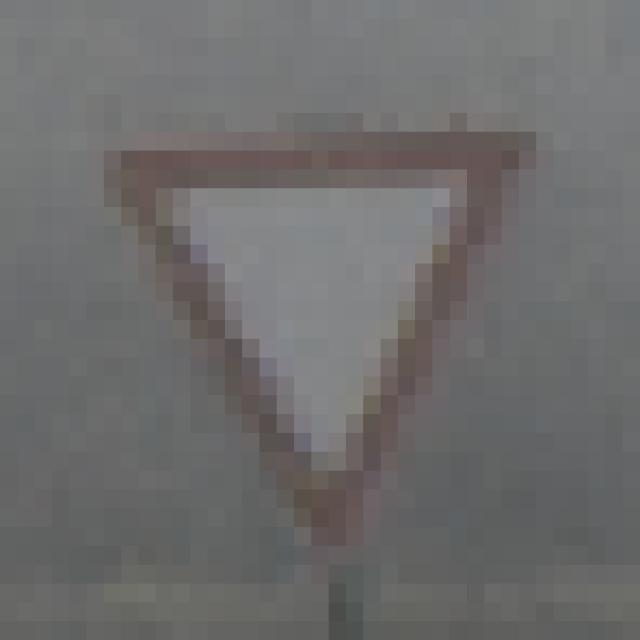Give Way: (88, 95, 555, 547)
